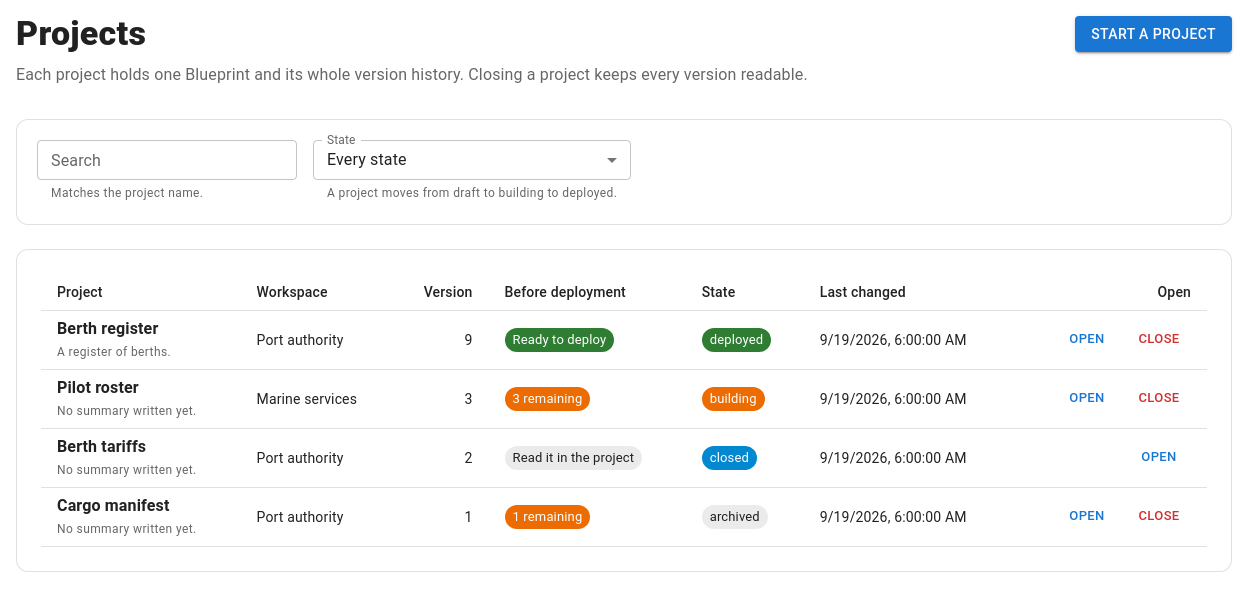
Test: the Projects panel › narrows the list by name and says so when nothing matches
Expected: the text "Berth register" is shown, [57,319,158,338]
Click the field labelled "Search" at (167, 160), box [37,140,297,180]
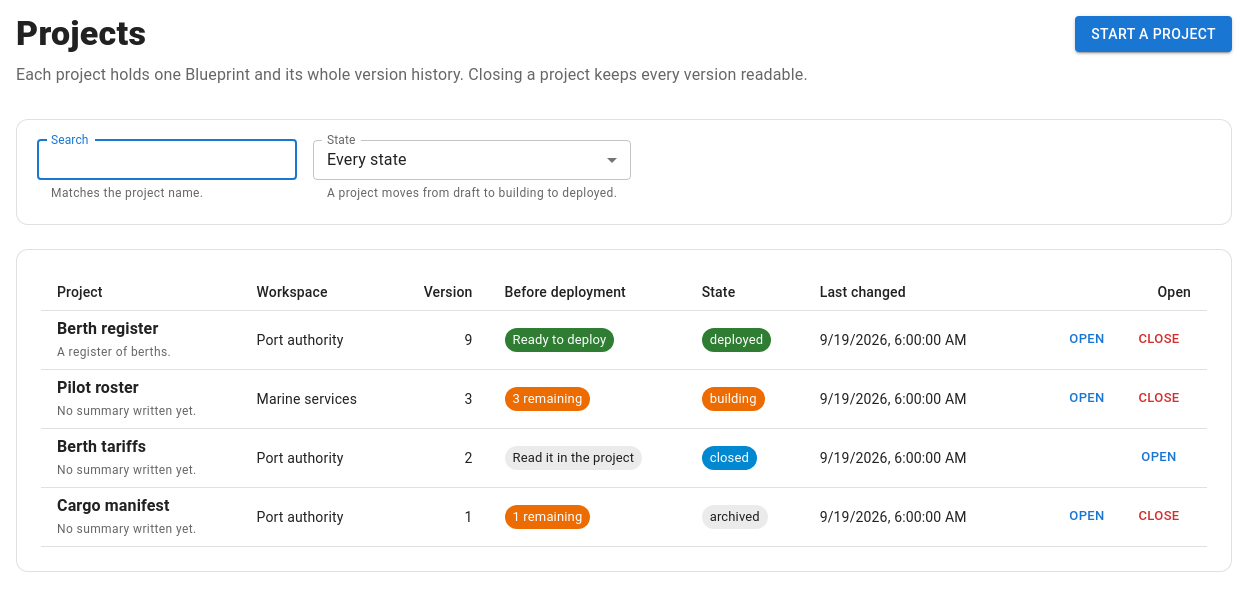
Type keys "  BERTH "
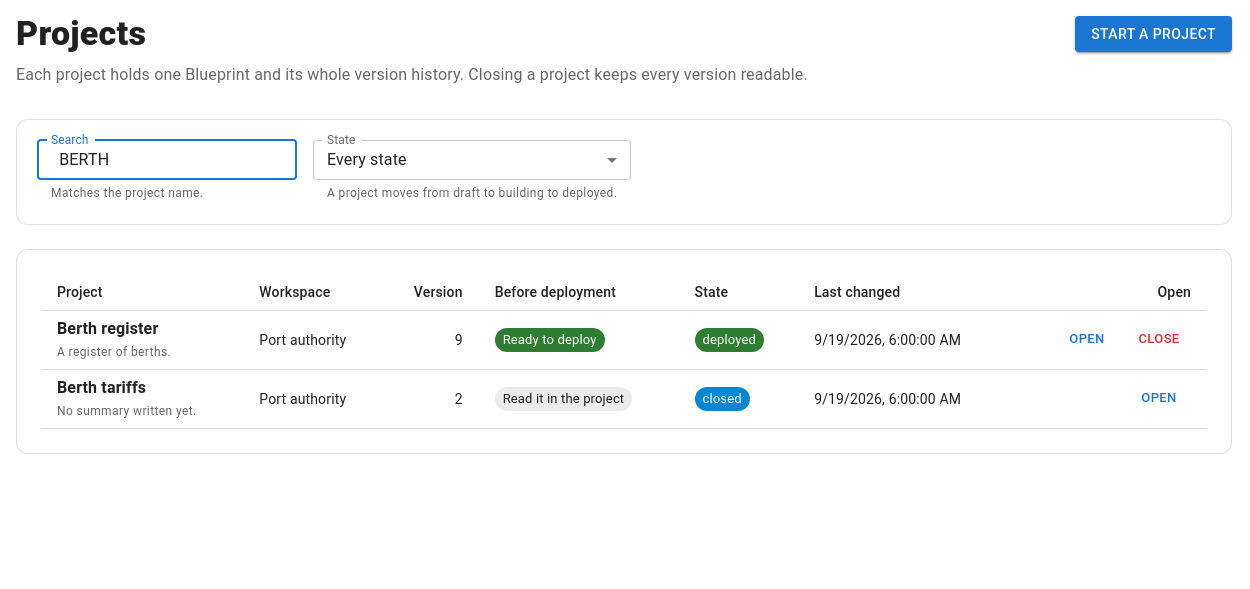
Type keys "ing"
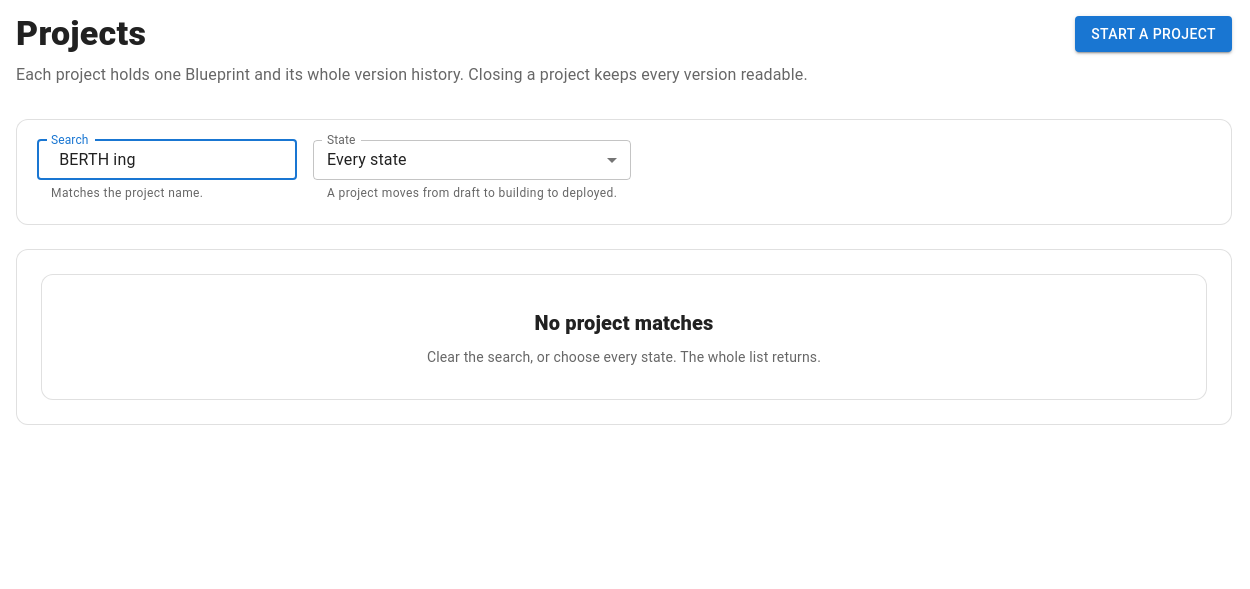
Expected: the table is gone
Expected: the heading "No project matches" is shown, [535,311,713,335]
